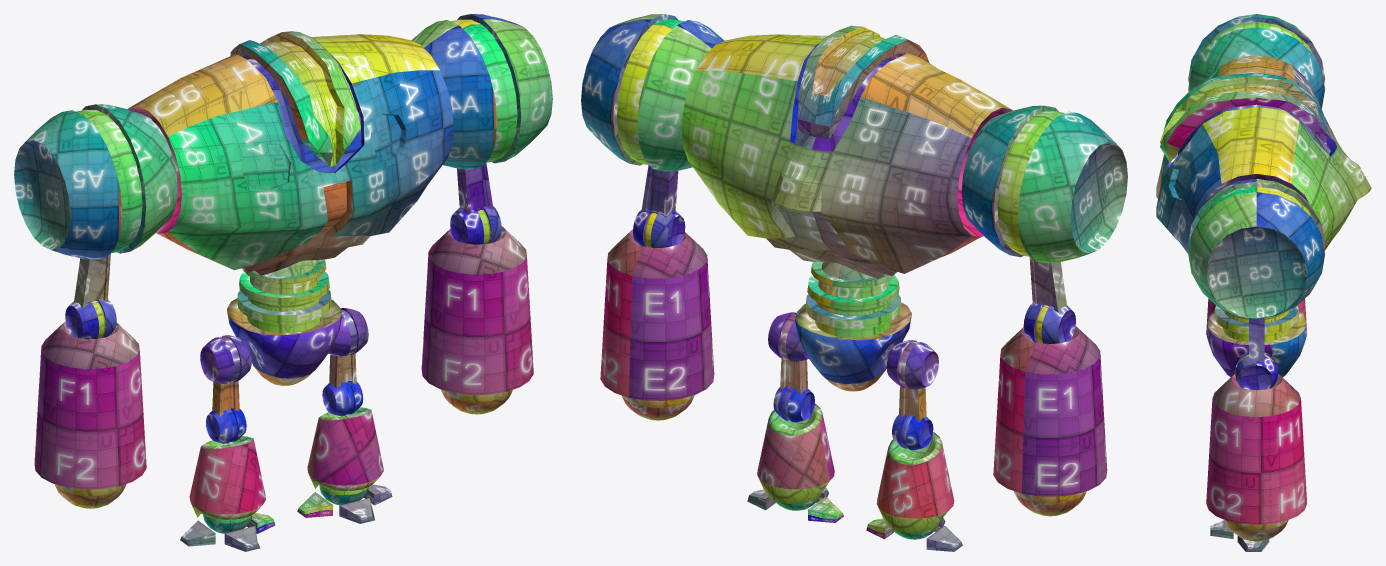
The model's file is UVRobot.fbx.
3 renders of one model, left to right at view 1: azimuth 30°, elevation 25°; view 2: azimuth 150°, elevation 25°; view 3: azimuth 270°, elevation 25°, orthographic. The views are drawn at different scales.
Parts seen in each view (by area): view 1: pCylinder18, pCylinder32, polySurface10, pCylinder8, pCube33, pCylinder14, pCylinder15, pCylinder31, polySurface5, pCube34, polySurface8, pSphere3 (+5 smaller); view 2: pCylinder18, pCylinder32, polySurface10, pCylinder8, pCube33, pCylinder14, pCylinder15, pCylinder31, polySurface5, pCube34, polySurface8, pSphere3 (+3 smaller); view 3: pCylinder32, pCylinder18, polySurface10, pCube33, pCylinder15, pCylinder14, pCylinder31, pSphere3, pCube34, pCube27, pCube28.
Part boxes in pixels (x1,y1,x2,y2): pCylinder18: [128, 34, 453, 275]; pCylinder32: [14, 14, 552, 259]; polySurface10: [34, 226, 533, 489]; pCylinder8: [189, 407, 383, 519]; pCube33: [230, 31, 360, 166]; pCylinder14: [237, 259, 331, 332]; pCylinder15: [227, 298, 342, 385]; pCylinder31: [65, 206, 501, 338]; polySurface5: [200, 308, 368, 383]; pCube34: [74, 163, 493, 308]; polySurface8: [206, 381, 363, 443]; pSphere3: [55, 389, 512, 508]; pCylinder18: [681, 34, 1012, 278]; pCylinder32: [581, 14, 1127, 263]; polySurface10: [600, 229, 1107, 496]; pCylinder8: [757, 403, 954, 533]; pCube33: [798, 25, 929, 139]; pCylinder14: [805, 262, 901, 337]; pCylinder15: [795, 302, 911, 391]; pCylinder31: [633, 209, 1075, 343]; polySurface5: [768, 312, 938, 389]; pCube34: [641, 165, 1066, 312]; polySurface8: [773, 386, 933, 449]; pSphere3: [621, 395, 1086, 516]; pCylinder32: [1188, 14, 1325, 318]; pCylinder18: [1156, 55, 1371, 253]; polySurface10: [1206, 299, 1306, 524]; pCube33: [1160, 72, 1326, 162]; pCylinder15: [1206, 311, 1306, 377]; pCylinder14: [1214, 305, 1298, 342]; pCylinder31: [1235, 352, 1278, 390]; pSphere3: [1225, 520, 1288, 541]; pCube34: [1249, 318, 1264, 363]; pCube27: [1210, 520, 1233, 538]; pCube28: [1237, 536, 1269, 551].
Bounding box in the file's own units: 4.32 × 4.04 × 1.86.
2 materials, 2 textured.
